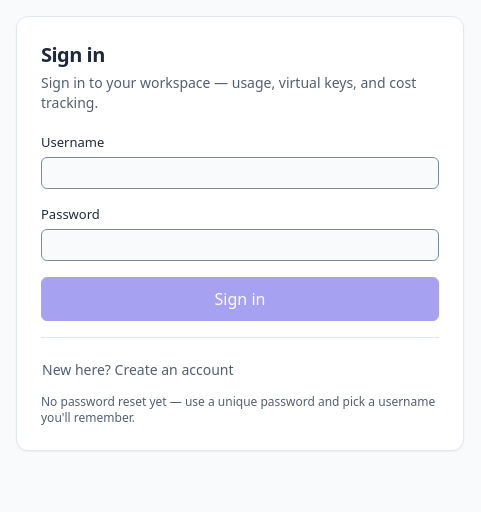
it: Login / sign-up form › tells people up front that the username is not an email, only when signing up
The image size is (481, 512).
What coordinates should you click on to do the following:
click the button "New here? Create an account"
I would click on:
 (138, 370)
Its box is [29,354,246,386].
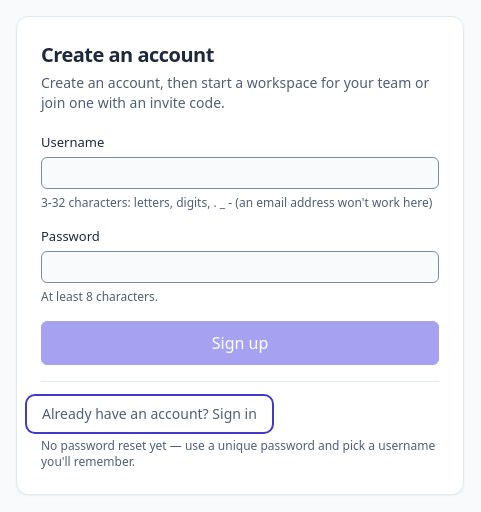
Expected: the text with test id "username-rules" shows "an email address won't work", [41,194,432,211]
